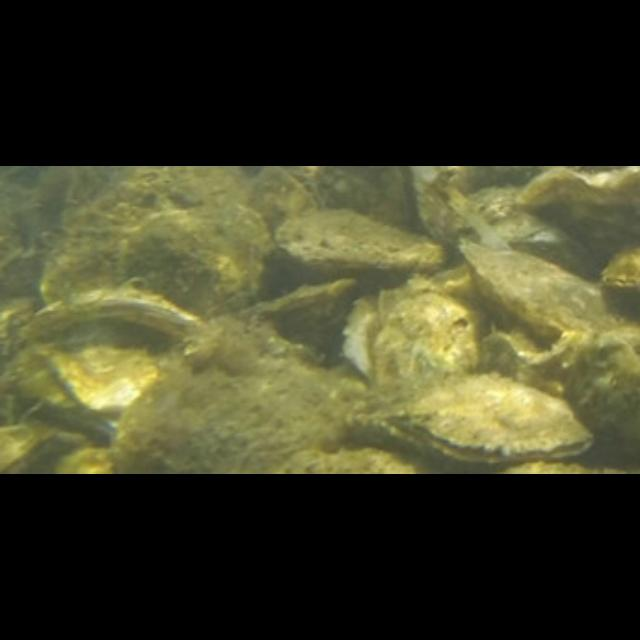Oyster-Closed: (119, 344, 435, 473), (482, 325, 638, 456), (118, 206, 268, 319), (41, 179, 177, 300), (342, 280, 482, 396), (458, 242, 623, 337), (518, 166, 638, 261), (274, 208, 447, 272), (25, 287, 202, 342), (35, 326, 148, 408), (244, 280, 358, 359), (417, 171, 512, 247), (301, 166, 409, 231), (243, 166, 328, 237), (471, 186, 573, 242), (0, 424, 60, 473), (599, 246, 638, 292), (61, 446, 121, 473), (430, 265, 474, 300)
Oyster-Open: (390, 376, 593, 464)
